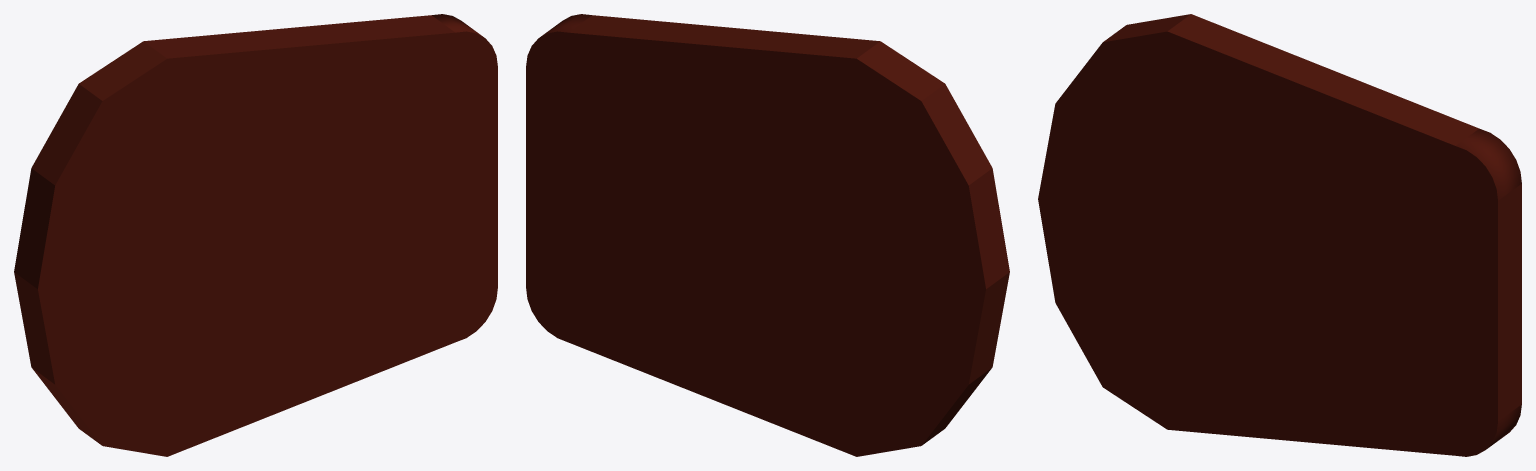
File: breadslice_fn_cutting_radar.obj
3 renders of one model, left to right at view 1: azimuth 30°, elevation 25°; view 2: azimuth 150°, elevation 25°; view 3: azimuth 330°, elevation 25°, orthographic.
Visible parts, largest first — view 1: bread.001_ID7.027; view 2: bread.001_ID7.027; view 3: bread.001_ID7.027.
Part boxes in pixels (<box>): bread.001_ID7.027: <box>14,14,497,456</box>; bread.001_ID7.027: <box>526,14,1009,456</box>; bread.001_ID7.027: <box>1038,14,1521,456</box>.
Size of the model in its own units: 0.341 by 0.2821 by 0.0306.
